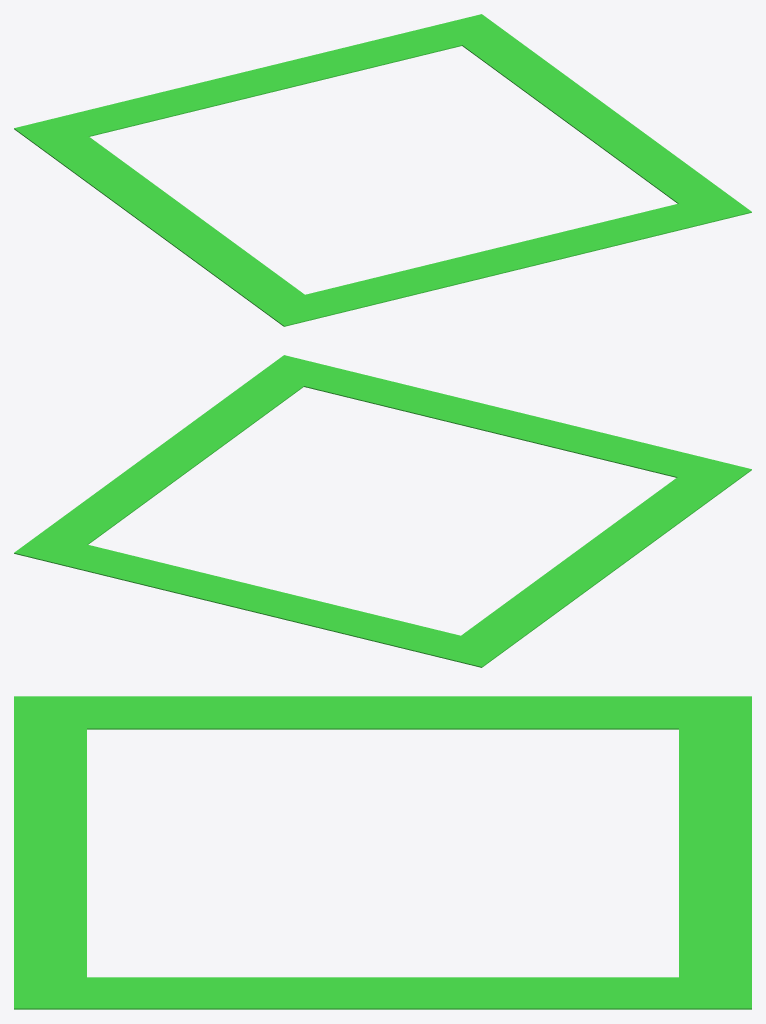
The model's file is CursorIndicator.fbx.
3 views of the same model, one above another, from view 1: azimuth 30°, elevation 25°; view 2: azimuth 150°, elevation 25°; view 3: azimuth 270°, elevation 25° (orthographic). The views are drawn at different scales.
Visible parts, largest first — view 1: Cube; view 2: Cube; view 3: Cube.
Part boxes in pixels (x1=…): Cube: x1=14, y1=14, x2=751, y2=326; Cube: x1=14, y1=355, x2=751, y2=667; Cube: x1=14, y1=696, x2=751, y2=1009.
Size of the model in its own units: 100 by 0.2 by 100.
